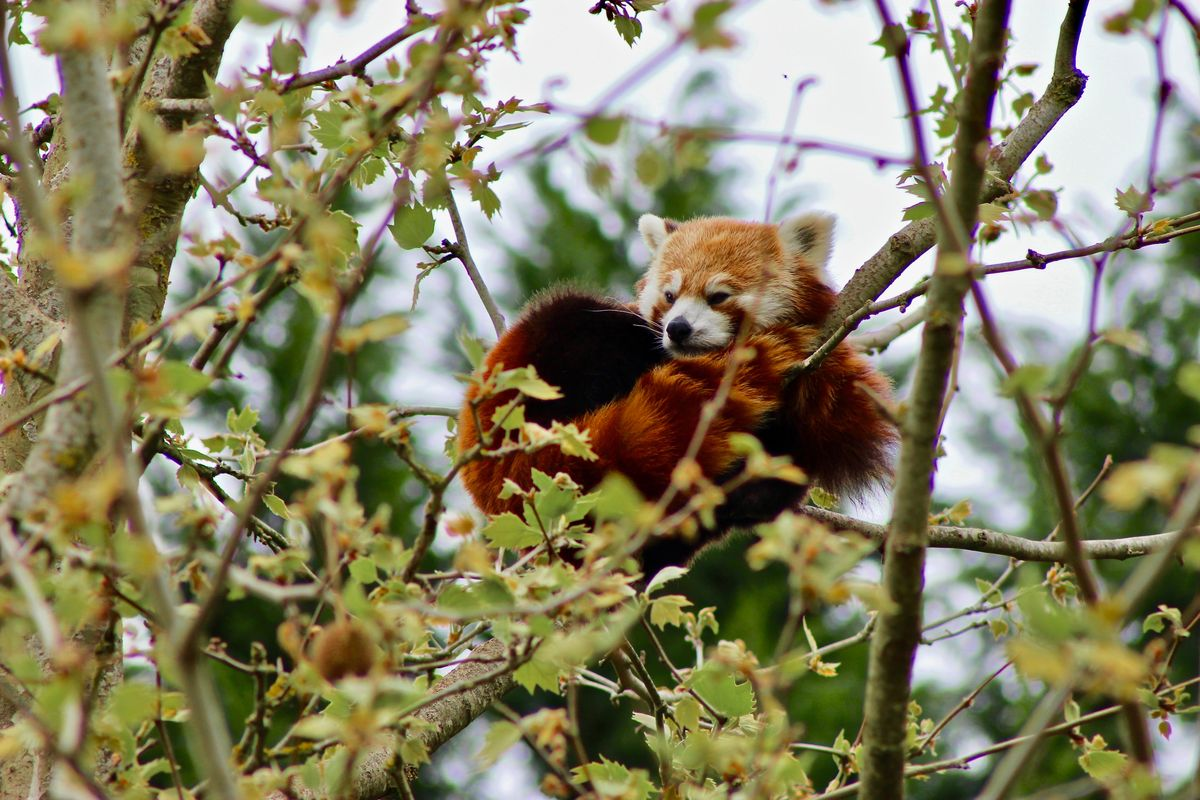red_panda: (450, 206, 900, 589)
